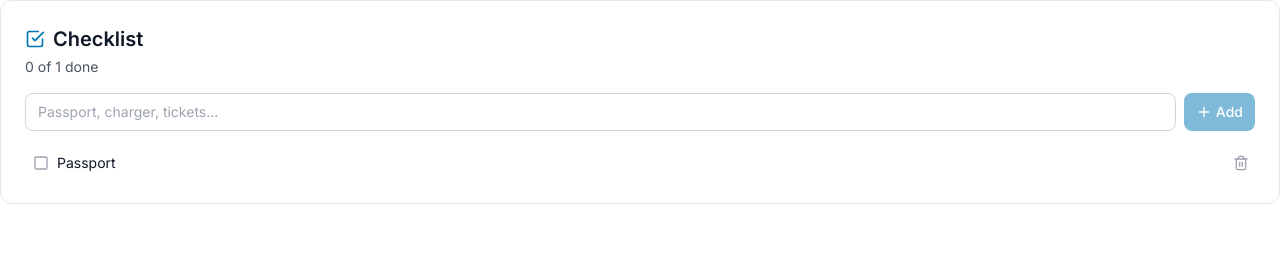
Test: the checklist ticks instantly, and takes it back if the server refuses › a new item is appended, matching where the server puts it
Expected: the button "Passport" is shown, [25,147,1219,179]
Type "Charger" into the field named "add a checklist item". click: (600, 112)
box: [25,93,1176,131]
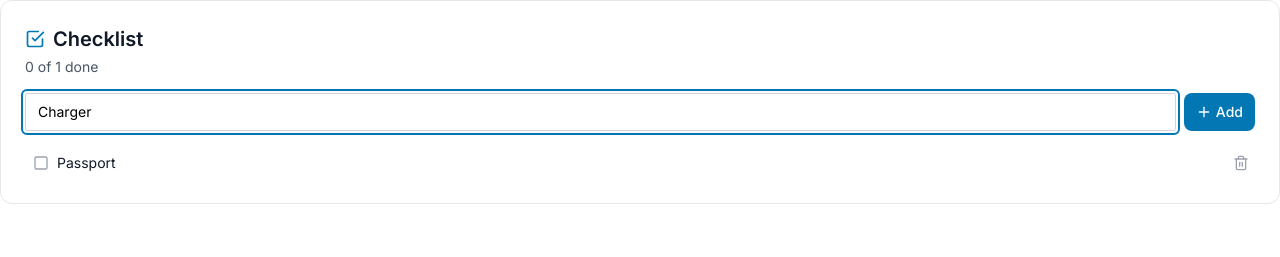
Click the button "Add". click: (1219, 112)
box: [1184,93,1255,131]
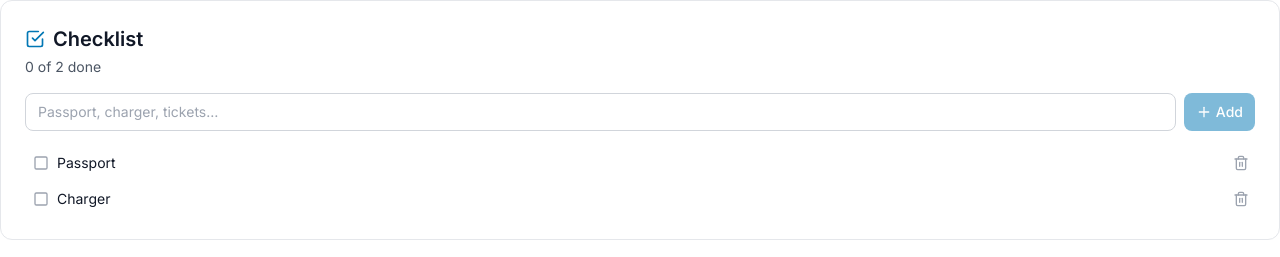
Expected: the text "Passport" is shown, [57,153,116,173]
Result: the text "Charger" is shown at [57,189,110,209]
